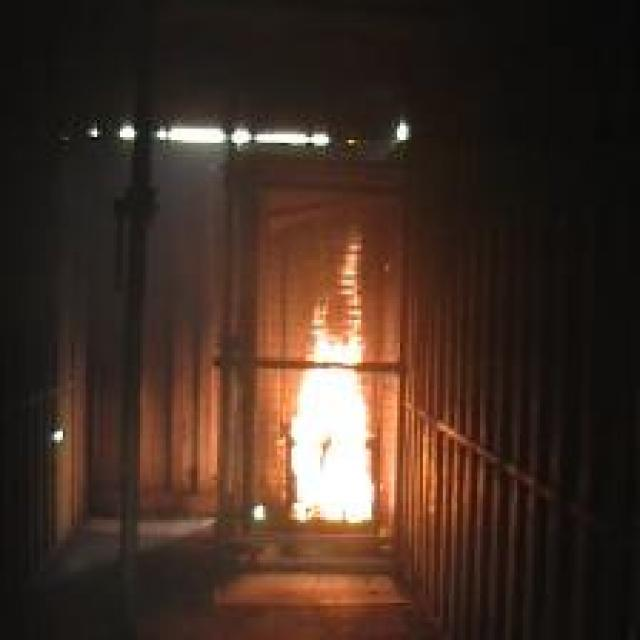Fire: (292, 231, 374, 523)
